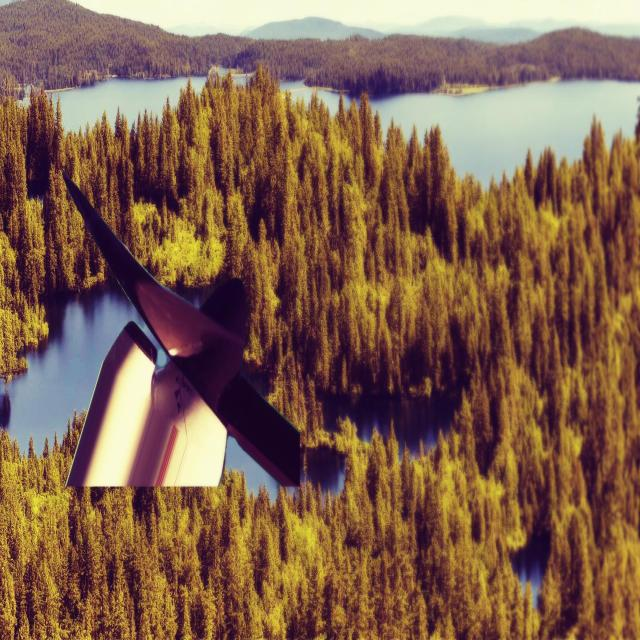airplane: (61, 168, 302, 491)
